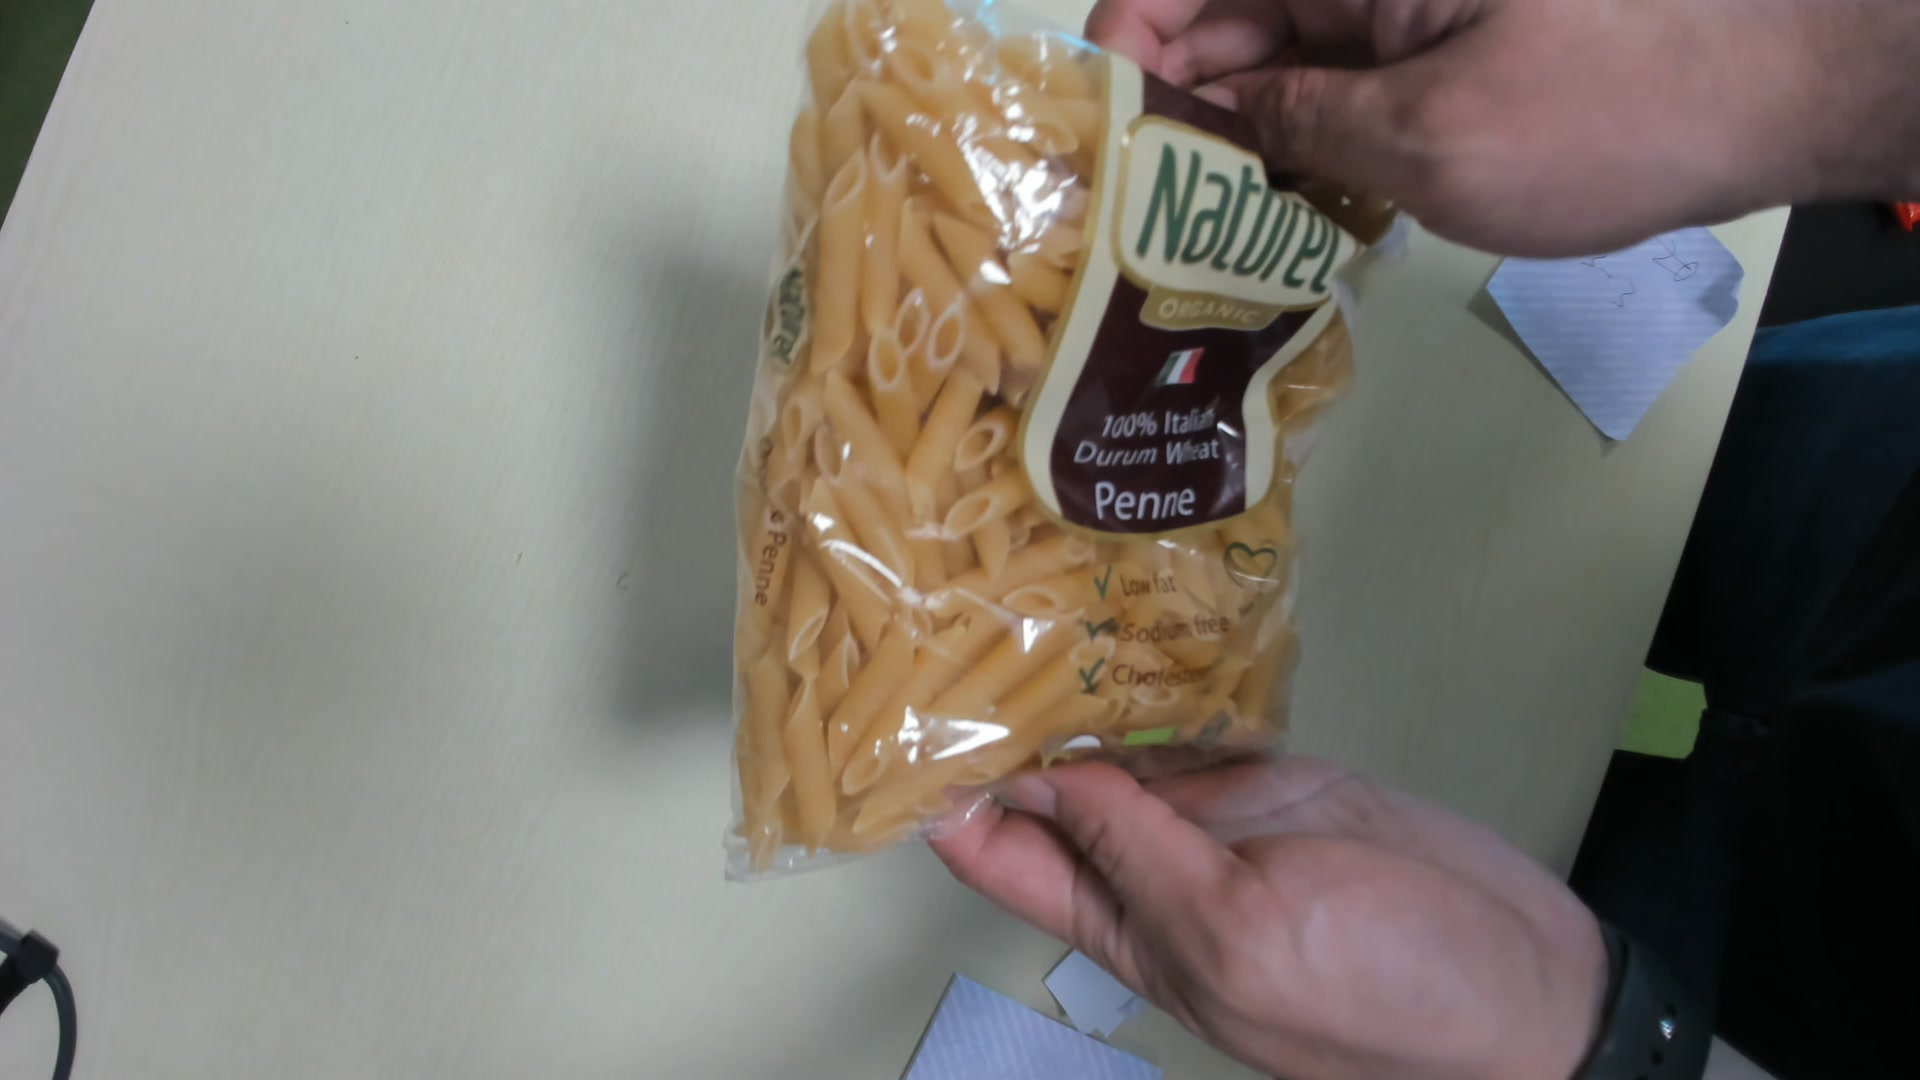Pasta_500-599g_Halal_NonHealthy: (727, 3, 1361, 876)
